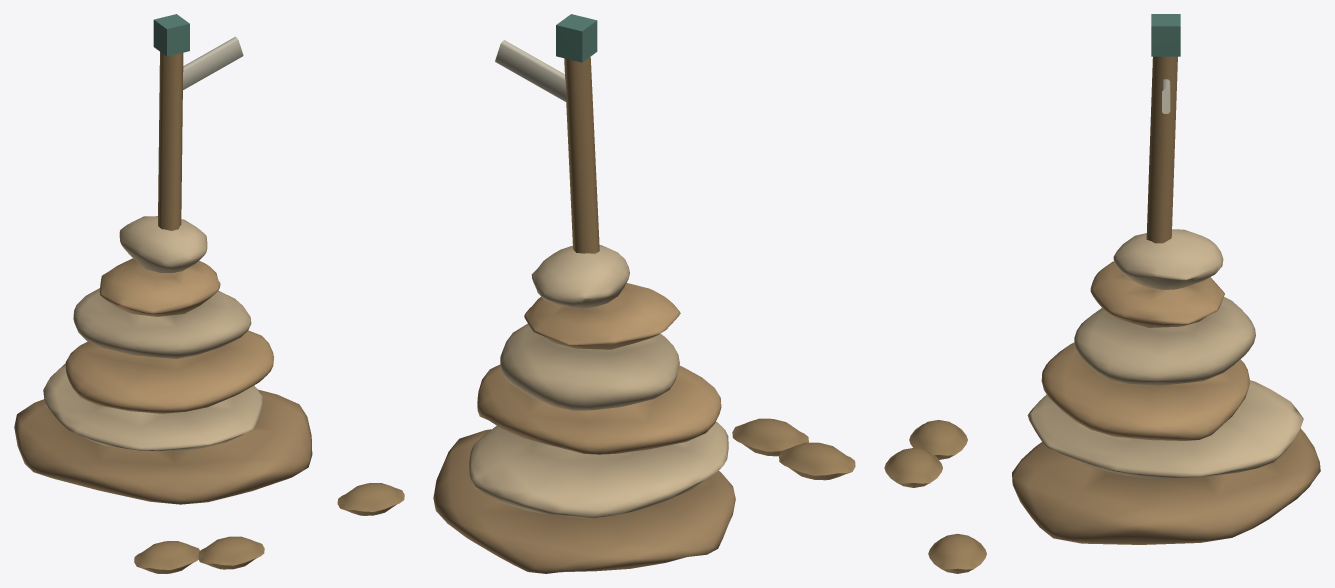
File: survey_cairn_a.glb
3 renders of one model, left to right at view 1: azimuth 30°, elevation 25°; view 2: azimuth 150°, elevation 25°; view 3: azimuth 270°, elevation 25°, orthographic. The views are drawn at different scales.
Parts seen in each view (by area): view 1: Surface; view 2: Surface; view 3: Surface.
Part boxes in pixels (x1,y1,x2,y2): Surface: (14,14,404,573); Surface: (433,14,855,573); Surface: (884,14,1320,573).
Size of the model in its own units: 0.8368 by 1.3 by 1.05.
